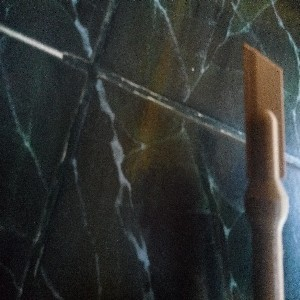cutter: (243, 40, 290, 300)
